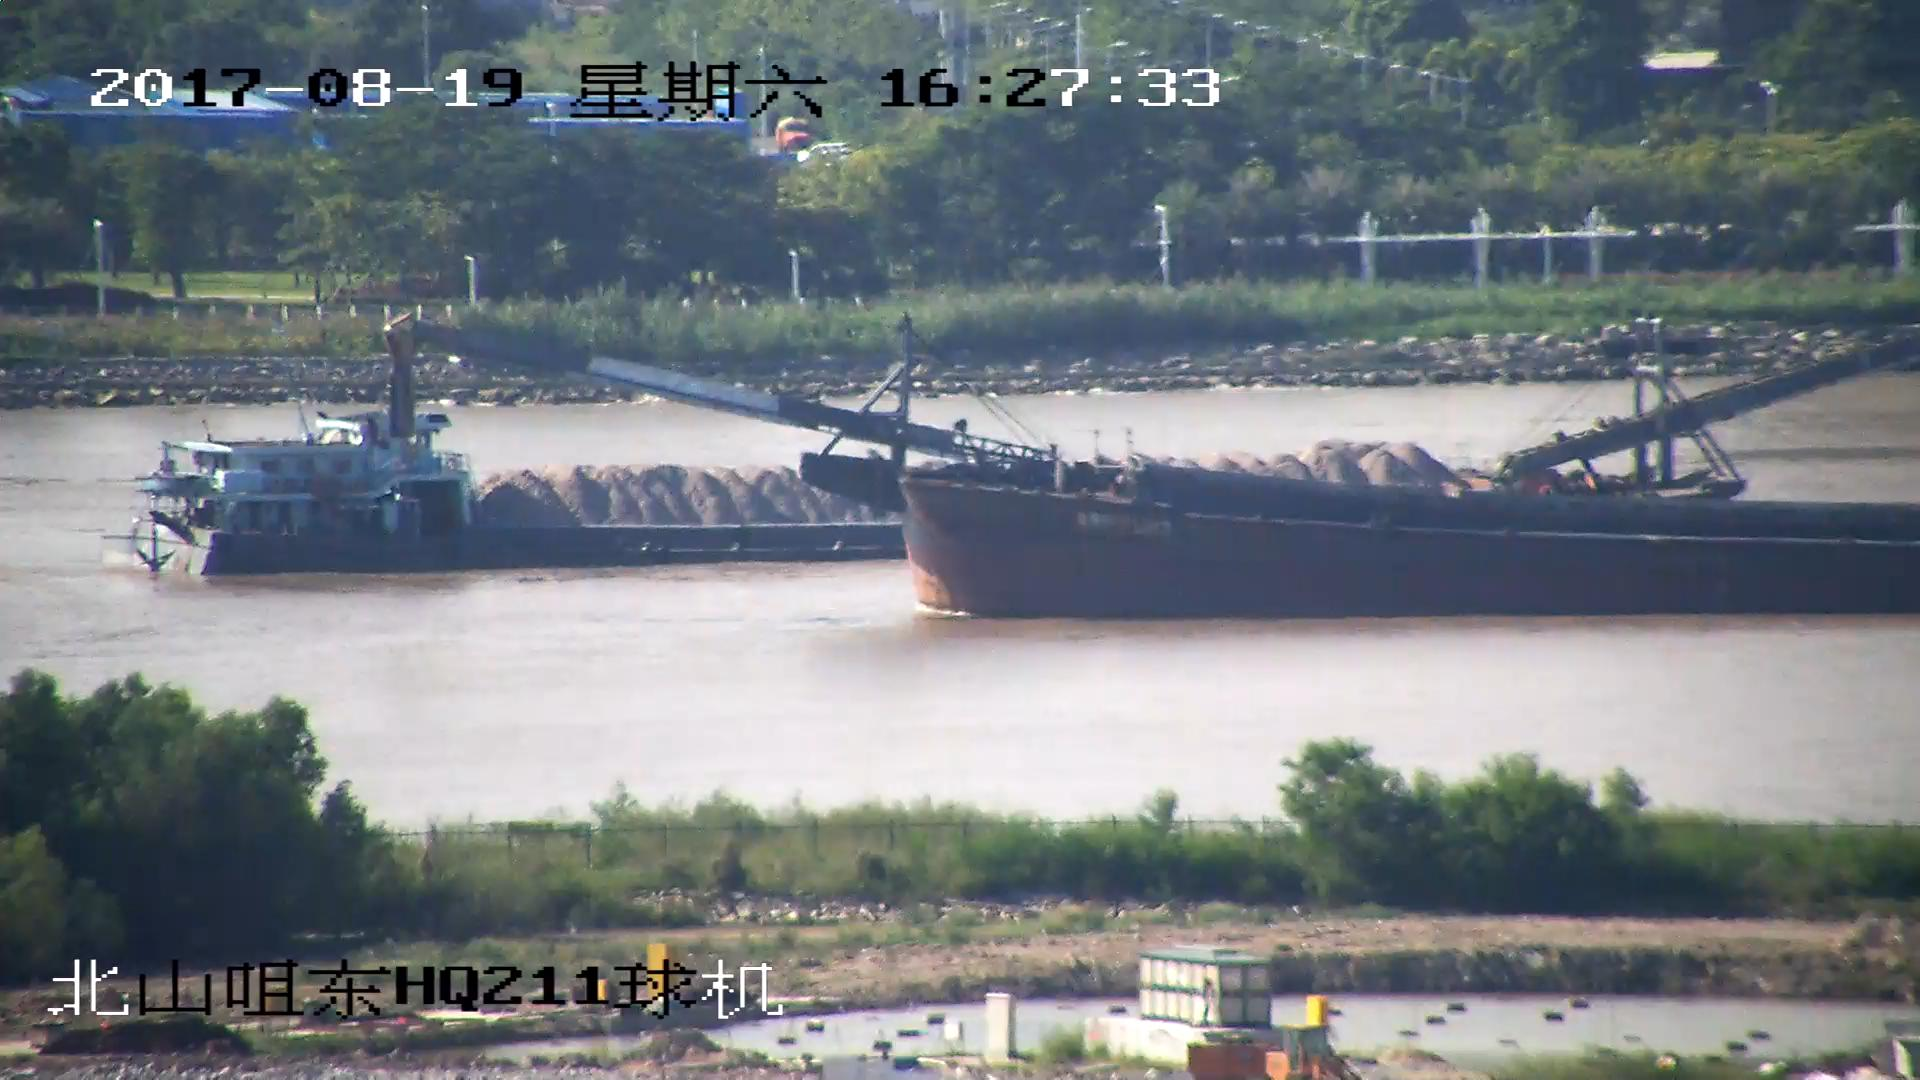bulk cargo carrier: (386, 328, 1920, 620)
ore carrier: (143, 338, 1920, 577)
